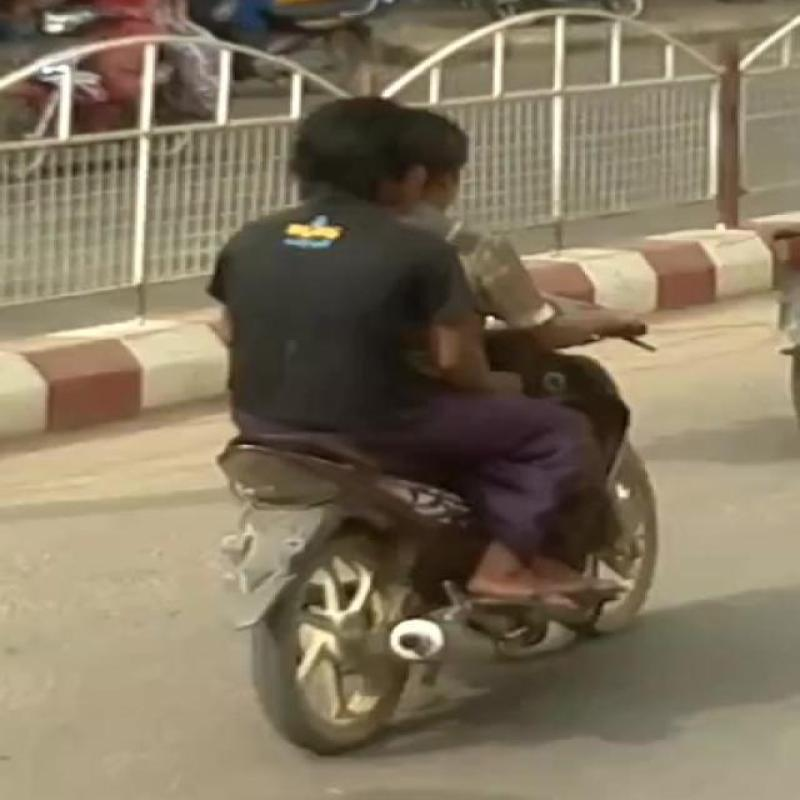nohelmet: (276, 76, 468, 228)
